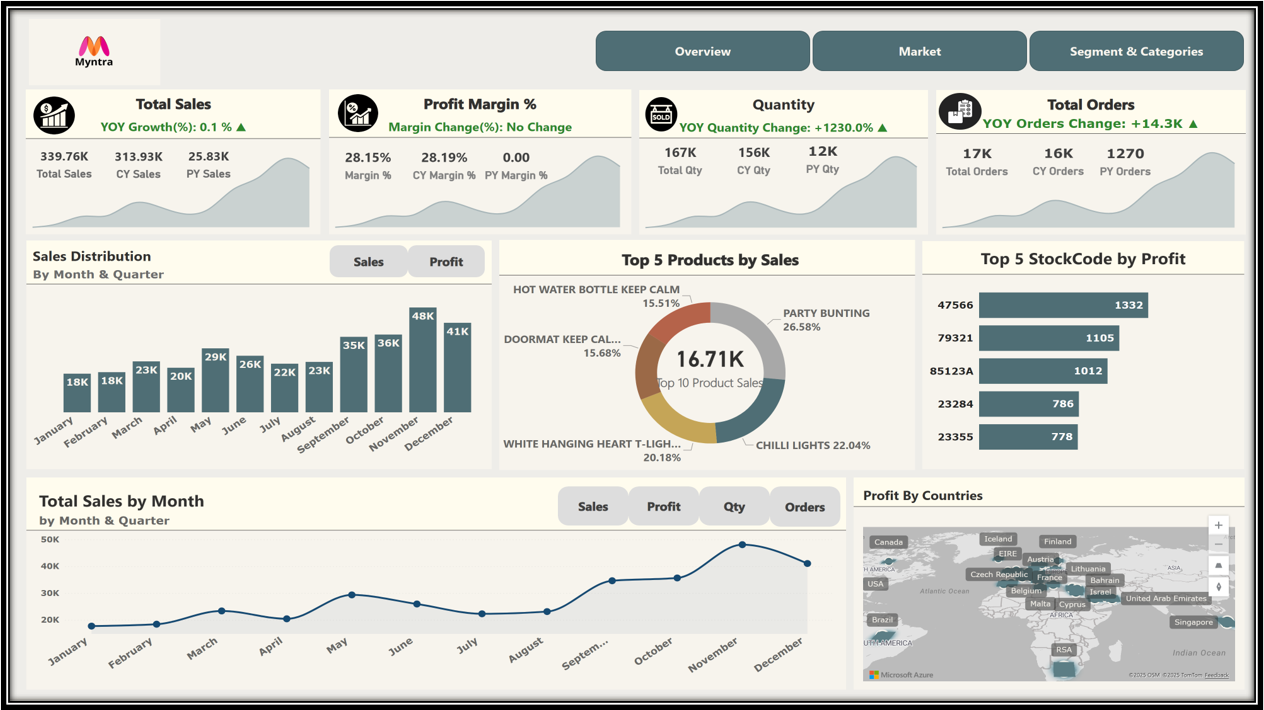

The dashboard page shown, as its layout file describes it:
{"tool":"powerbi","page":{"name":"Overview","canvas":[1971,1158],"ordinal":0},"visuals":[{"type":"group","id":"g1","title":"Group 1","box":[25.2,129.3,467.6,244.5],"z":0},{"type":"powerKPI462CE5C2666F4EC8A8BDD7E5587320A3","title":"Quantity","fields":{"Axis":["Dim Date.InvoiceDate.Variation.Date Hierarchy.Month"],"Values":["Measure Table.Total Sales","Measure Table.Sales Change % Label"],"SecondKPIIndicatorValue":["Measure Table.PY Sales"],"KPIIndicatorValue":["Measure Table.Current Year Sales"]},"box":[997.9,129.8,458,244],"z":0,"group":"g7"},{"type":"powerKPI462CE5C2666F4EC8A8BDD7E5587320A3","title":"Total Sales","fields":{"Axis":["Dim Date.InvoiceDate.Variation.Date Hierarchy.Month"],"Values":["Measure Table.Total Sales","Measure Table.Sales Change % Label"],"SecondKPIIndicatorValue":["Measure Table.PY Sales"],"KPIIndicatorValue":["Measure Table.Current Year Sales"]},"box":[25.2,129.3,467.6,244.5],"z":1000,"group":"g1"},{"type":"group","id":"g2","title":"Group 3","box":[505.8,129.3,479.3,244.5],"z":1000},{"type":"powerKPI462CE5C2666F4EC8A8BDD7E5587320A3","title":"Profit Margin %","fields":{"Axis":["Dim Date.InvoiceDate.Variation.Date Hierarchy.Month"],"Values":["Measure Table.Total Sales","Measure Table.Sales Change % Label"],"SecondKPIIndicatorValue":["Measure Table.PY Sales"],"KPIIndicatorValue":["Measure Table.Current Year Sales"]},"box":[505.8,129.3,479.3,244.5],"z":2000,"group":"g2"},{"type":"group","id":"g3","title":"Group 4","box":[997.9,129.8,458,244],"z":2000},{"type":"group","id":"g4","title":"Group 5","box":[1468.9,129.8,491,244],"z":3000},{"type":"card","fields":{"Values":["Measure Table.Current Margin %"]},"box":[631.1,211.3,116,88.5],"z":3000,"group":"g2"},{"type":"clusteredColumnChart","title":"Sales  Distribution","fields":{"Y":["Measure Table.Total Sales"],"Category":["Dim Date.InvoiceDate.Variation.Date Hierarchy.Month"]},"box":[26,384,738,386],"z":4000},{"type":"card","fields":{"Values":["Measure Table.CY Sales"]},"box":[146.7,215.2,116,76.7],"z":6000,"group":"g1"},{"type":"shape","title":"Profit","box":[631.3,391.6,122,54],"z":6000},{"type":"group","id":"g5","title":"Group 6","box":[780,384,658,386],"z":7000},{"type":"powerKPI462CE5C2666F4EC8A8BDD7E5587320A3","title":"Total Orders","fields":{"Axis":["Dim Date.InvoiceDate.Variation.Date Hierarchy.Month"],"Values":["Measure Table.Total Sales","Measure Table.Sales Change % Label"],"SecondKPIIndicatorValue":["Measure Table.PY Sales"],"KPIIndicatorValue":["Measure Table.Current Year Sales"]},"box":[1468.9,129.8,491,244],"z":8000,"group":"g4"},{"type":"donutChart","title":"Top 5 Products by Sales","fields":{"Y":["Measure Table.Top 5 Product Sales"],"Category":["Dim Product.Description"]},"box":[780,384,658,386],"z":8000,"group":"g6"},{"type":"clusteredBarChart","title":"Top 5 StockCode by Profit","fields":{"Category":["Dim Product.StockCode"],"Y":["Measure Table.Profit"]},"box":[1448,386,512,398],"z":8000},{"type":"card","fields":{"Values":["Measure Table.Profit Margin %"]},"box":[509.2,213.3,118,84.6],"z":9000,"group":"g2"},{"type":"shape","title":"Sales","box":[507.3,391.6,124,54],"z":9000},{"type":"card","fields":{"Values":["Measure Table.Top 10 Product Sales"]},"box":[986.3,480.6,252.3,225.4],"z":9000,"group":"g6"},{"type":"azureMap","title":"Profit By Countries","fields":{"Category":["Dim Customer.Country"]},"box":[1338,784,620,358],"z":10000},{"type":"lineChart","fields":{"Category":["Dim Date.InvoiceDate.Variation.Date Hierarchy.Month","Dim_Date.WeekdayName","Dim Date.InvoiceDate.Variation.Date Hierarchy.Quarter","Dim Date.InvoiceDate.Variation.Date Hierarchy.Day"],"Y":["Measure Table.Total Sales"]},"box":[26,784,1300,358],"z":11000},{"type":"card","fields":{"Values":["Measure Table.Previous Margin %"]},"box":[745.2,213.3,116,84.6],"z":14000,"group":"g2"},{"type":"shape","title":"Sales","box":[981.3,798.6,112,66],"z":15000},{"type":"shape","title":"Sales","box":[1093.3,798.6,112,66],"z":16000},{"type":"card","fields":{"Values":["Measure Table.Total Sales"]},"box":[28.7,215.2,116,76.7],"z":17000,"group":"g1"},{"type":"shape","title":"Sales","box":[1205.3,798.6,112,68],"z":17000},{"type":"shape","title":"Sales","box":[869.3,798.6,112,66],"z":18000},{"type":"shape","box":[929.2,29.6,340,68],"z":19000},{"type":"shape","box":[1273.2,29.6,340,68],"z":20000},{"type":"shape","box":[1617.2,29.6,340,68],"z":21000},{"type":"card","fields":{"Values":["Measure Table.PY Sales"]},"box":[258.8,215.2,112.1,76.7],"z":21000,"group":"g1"},{"type":"group","id":"g6","title":"Group 7","box":[780,384,658,386],"z":21002,"group":"g5"},{"type":"image","box":[29.5,9.8,208.5,112],"z":22000},{"type":"image","box":[30,134,80,78],"z":23000},{"type":"image","box":[510,130,84,78],"z":24000},{"type":"image","box":[1000,134,66,74],"z":25000},{"type":"image","box":[1468,130,78,72],"z":26000},{"type":"group","id":"g7","title":"Group 2","box":[997.9,129.8,458,244],"z":30000,"group":"g3"},{"type":"card","fields":{"Values":["Measure Table.CY Qty"]},"box":[1121.8,208.5,115.5,75.2],"z":32000,"group":"g3"},{"type":"card","fields":{"Values":["Measure Table.Total Quantity"]},"box":[1002.9,208.5,119.7,75.2],"z":33000,"group":"g3"},{"type":"card","fields":{"Values":["Measure Table.PY Qty"]},"box":[1236.7,204.6,103.9,79.2],"z":34000,"group":"g3"},{"type":"card","fields":{"Values":["Measure Table.CY Orders"]},"box":[1600.5,205.5,123.5,83.4],"z":35000,"group":"g4"},{"type":"card","fields":{"Values":["Measure Table.Total Orders"]},"box":[1471.2,207.4,125.5,81.5],"z":36000,"group":"g4"},{"type":"card","fields":{"Values":["Measure Table.PY Orders"]},"box":[1716.2,207.4,105.9,81.5],"z":37000,"group":"g4"}]}

Visuals, with their boxes on the page's 1971x1158 design canvas (x1, y1, x2, y2). These are canvas units, not pixel positions in the 1264x710 screenshot, which may show the page scaled, cropped or inside an application window:
"Group 1" group: (left=25, top=129, right=493, bottom=374)
"Quantity" powerKPI462CE5C2666F4EC8A8BDD7E5587320A3: (left=998, top=130, right=1456, bottom=374)
"Total Sales" powerKPI462CE5C2666F4EC8A8BDD7E5587320A3: (left=25, top=129, right=493, bottom=374)
"Group 3" group: (left=506, top=129, right=985, bottom=374)
"Profit Margin %" powerKPI462CE5C2666F4EC8A8BDD7E5587320A3: (left=506, top=129, right=985, bottom=374)
"Group 4" group: (left=998, top=130, right=1456, bottom=374)
"Group 5" group: (left=1469, top=130, right=1960, bottom=374)
card - Measure Table.Current Margin %: (left=631, top=211, right=747, bottom=300)
"Sales  Distribution" clusteredColumnChart: (left=26, top=384, right=764, bottom=770)
card - Measure Table.CY Sales: (left=147, top=215, right=263, bottom=292)
"Profit" shape: (left=631, top=392, right=753, bottom=446)
"Group 6" group: (left=780, top=384, right=1438, bottom=770)
"Total Orders" powerKPI462CE5C2666F4EC8A8BDD7E5587320A3: (left=1469, top=130, right=1960, bottom=374)
"Top 5 Products by Sales" donutChart: (left=780, top=384, right=1438, bottom=770)
"Top 5 StockCode by Profit" clusteredBarChart: (left=1448, top=386, right=1960, bottom=784)
card - Measure Table.Profit Margin %: (left=509, top=213, right=627, bottom=298)
"Sales" shape: (left=507, top=392, right=631, bottom=446)
card - Measure Table.Top 10 Product Sales: (left=986, top=481, right=1239, bottom=706)
"Profit By Countries" azureMap: (left=1338, top=784, right=1958, bottom=1142)
lineChart - Dim Date.InvoiceDate.Variation.Date Hierarchy.Month x Dim_Date.WeekdayName: (left=26, top=784, right=1326, bottom=1142)
card - Measure Table.Previous Margin %: (left=745, top=213, right=861, bottom=298)
"Sales" shape: (left=981, top=799, right=1093, bottom=865)
"Sales" shape: (left=1093, top=799, right=1205, bottom=865)
card - Measure Table.Total Sales: (left=29, top=215, right=145, bottom=292)
"Sales" shape: (left=1205, top=799, right=1317, bottom=867)
"Sales" shape: (left=869, top=799, right=981, bottom=865)
shape: (left=929, top=30, right=1269, bottom=98)
shape: (left=1273, top=30, right=1613, bottom=98)
shape: (left=1617, top=30, right=1957, bottom=98)
card - Measure Table.PY Sales: (left=259, top=215, right=371, bottom=292)
"Group 7" group: (left=780, top=384, right=1438, bottom=770)
image: (left=30, top=10, right=238, bottom=122)
image: (left=30, top=134, right=110, bottom=212)
image: (left=510, top=130, right=594, bottom=208)
image: (left=1000, top=134, right=1066, bottom=208)
image: (left=1468, top=130, right=1546, bottom=202)
"Group 2" group: (left=998, top=130, right=1456, bottom=374)
card - Measure Table.CY Qty: (left=1122, top=208, right=1237, bottom=284)
card - Measure Table.Total Quantity: (left=1003, top=208, right=1123, bottom=284)
card - Measure Table.PY Qty: (left=1237, top=205, right=1341, bottom=284)
card - Measure Table.CY Orders: (left=1600, top=206, right=1724, bottom=289)
card - Measure Table.Total Orders: (left=1471, top=207, right=1597, bottom=289)
card - Measure Table.PY Orders: (left=1716, top=207, right=1822, bottom=289)
